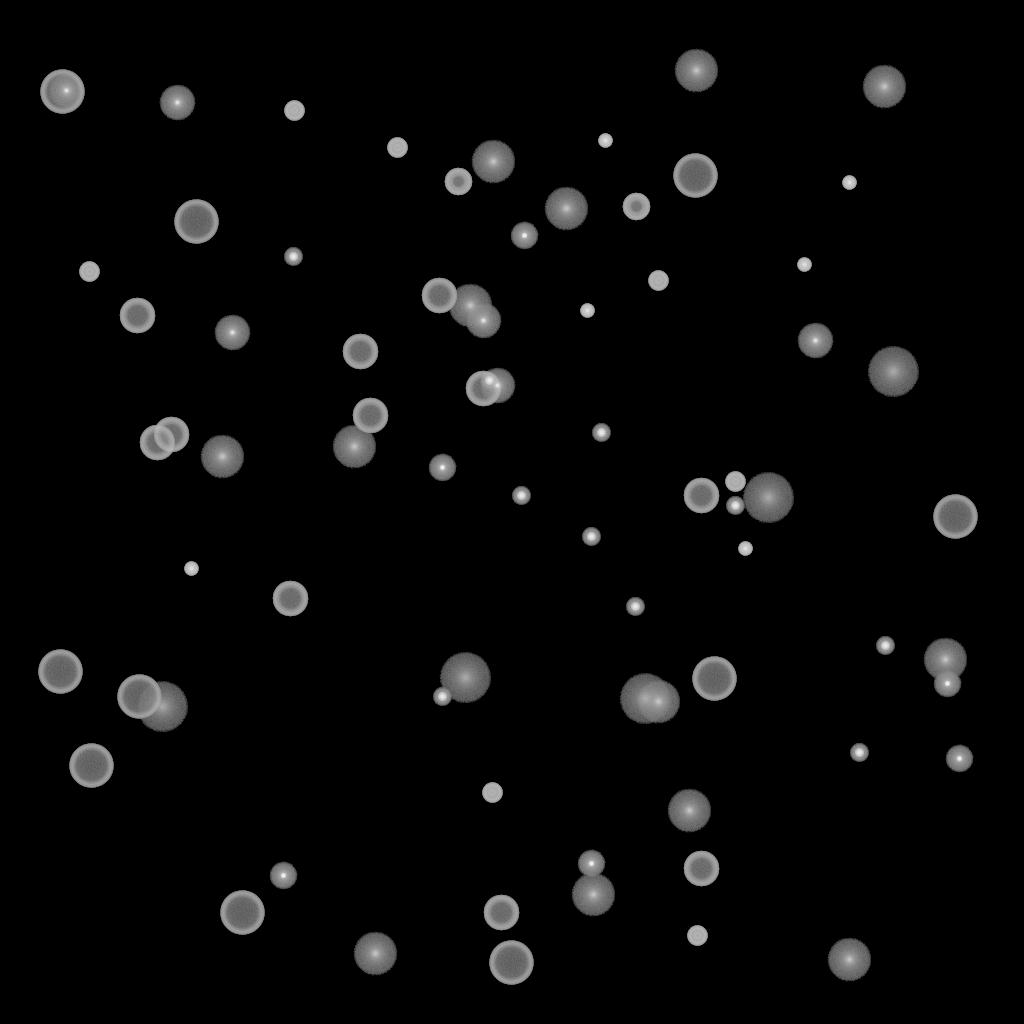depth:-10: (428, 454, 456, 482), (269, 862, 297, 890), (945, 745, 973, 773), (933, 670, 961, 698), (510, 222, 538, 250), (577, 850, 605, 878)
depth:-20: (726, 497, 744, 515), (284, 248, 302, 266), (582, 528, 600, 546), (592, 424, 610, 442), (512, 487, 530, 505), (626, 598, 644, 616), (850, 744, 868, 762), (433, 688, 451, 706), (480, 372, 498, 390), (876, 637, 894, 655)
depth:-30: (598, 134, 612, 148), (184, 562, 198, 576), (738, 542, 752, 556), (842, 176, 856, 190), (580, 304, 594, 318), (797, 258, 811, 272)
depth:-40: (648, 271, 668, 291), (387, 138, 407, 158), (725, 472, 745, 492), (284, 101, 304, 121), (687, 926, 707, 946), (79, 262, 99, 282), (482, 783, 502, 803)
depth:-50: (444, 168, 472, 196), (622, 193, 650, 221)
depth:-60: (465, 371, 501, 407), (683, 478, 719, 514), (139, 425, 175, 461), (421, 278, 457, 314), (272, 581, 308, 617), (153, 417, 189, 453), (119, 298, 155, 334), (342, 334, 378, 370), (483, 895, 519, 931), (683, 851, 719, 887), (352, 398, 388, 434)
depth:-70: (69, 744, 113, 788), (174, 200, 218, 244), (673, 154, 717, 198), (933, 495, 977, 539), (38, 650, 82, 694), (117, 675, 161, 719), (40, 70, 84, 114), (692, 657, 736, 701), (220, 891, 264, 935), (489, 941, 533, 985)
depth:0: (465, 303, 501, 339), (479, 368, 515, 404), (159, 85, 195, 121), (797, 323, 833, 359), (48, 73, 84, 109), (214, 315, 250, 351)
depth:10: (332, 425, 376, 469), (200, 435, 244, 479), (448, 284, 492, 328), (862, 65, 906, 109), (544, 187, 588, 231), (353, 932, 397, 976), (667, 789, 711, 833), (674, 49, 718, 93), (571, 873, 615, 917), (923, 638, 967, 682), (636, 680, 680, 724), (471, 140, 515, 184), (827, 938, 871, 982)
depth:20: (867, 347, 919, 397), (742, 473, 794, 523), (439, 653, 491, 703), (136, 682, 188, 732), (619, 674, 671, 724)
